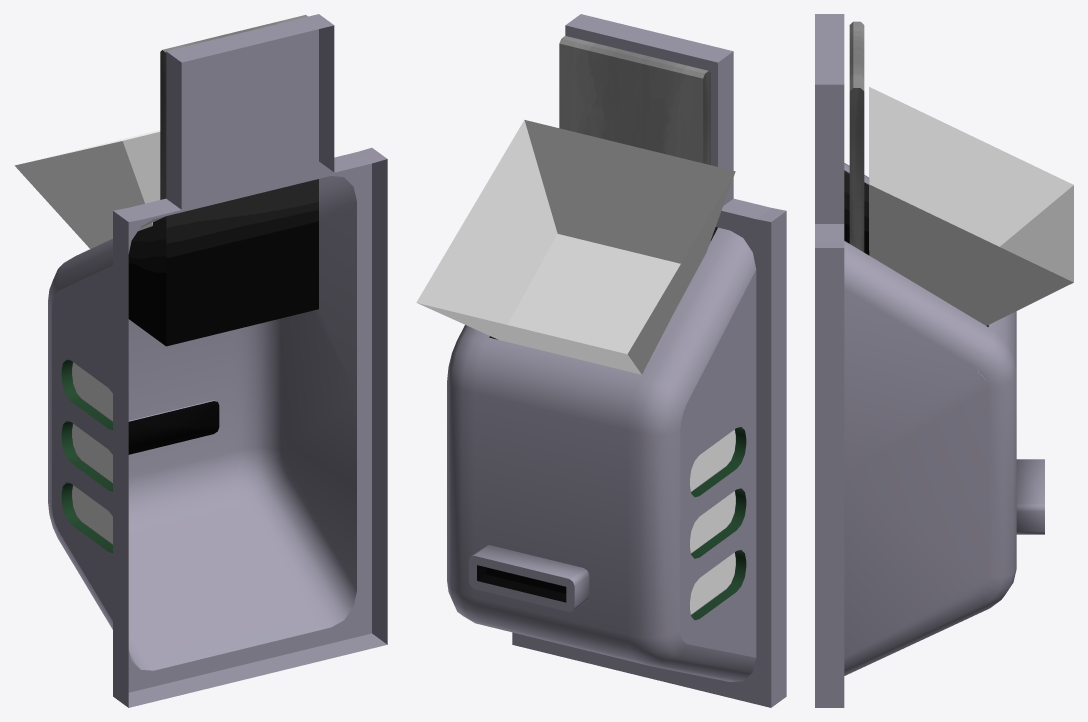
Rendered from furnace.fbx.
3 renders of one model, left to right at view 1: azimuth 30°, elevation 25°; view 2: azimuth 150°, elevation 25°; view 3: azimuth 270°, elevation 25°, orthographic. The views are drawn at different scales.
Parts seen in each view (by area): view 1: Furnace, Furnace_HeatWaveMesh, Furnace_Belt; view 2: Furnace, Furnace_HeatWaveMesh, Furnace_Belt; view 3: Furnace, Furnace_HeatWaveMesh, Furnace_Belt.
Boxes of the visible parts, box(x1,y1,x2,y2) form: Furnace: box(48, 14, 387, 707); Furnace_HeatWaveMesh: box(14, 130, 160, 248); Furnace_Belt: box(160, 15, 307, 199); Furnace: box(447, 14, 786, 707); Furnace_HeatWaveMesh: box(416, 120, 735, 374); Furnace_Belt: box(559, 36, 710, 243); Furnace: box(815, 14, 1044, 707); Furnace_HeatWaveMesh: box(869, 87, 1073, 325); Furnace_Belt: box(849, 21, 864, 252).
Bounding box in the file's own units: 421 × 983 × 385.
